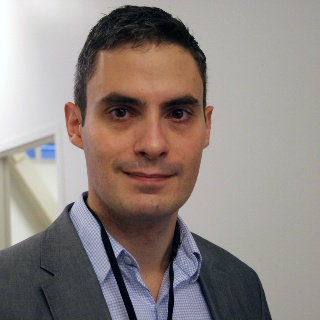without_mask: (61, 38, 216, 220)
